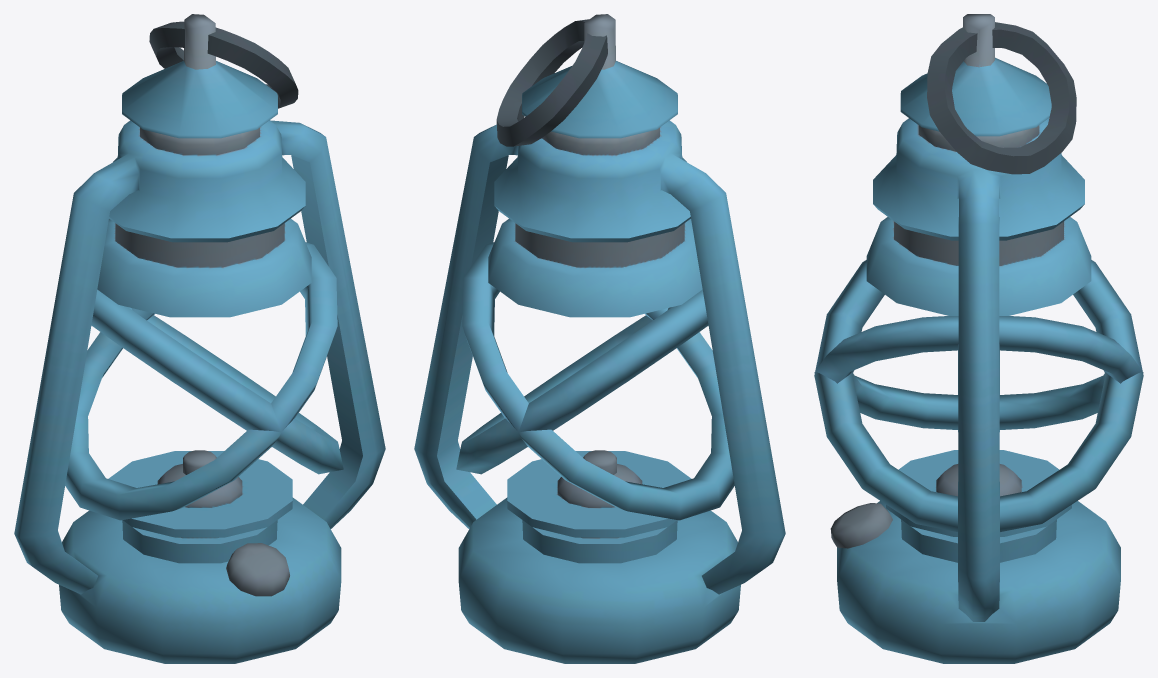
File: OilLanternGround.fbx
The picture shows the model from 3 angles, left to right: view 1: azimuth 30°, elevation 25°; view 2: azimuth 150°, elevation 25°; view 3: azimuth 270°, elevation 25°; orthographic projection.
Visible parts, largest first — view 1: SM_OilLantern_Ground; view 2: SM_OilLantern_Ground; view 3: SM_OilLantern_Ground.
Boxes of the visible parts, <box> form: SM_OilLantern_Ground: <box>14,14,385,663</box>; SM_OilLantern_Ground: <box>414,14,785,663</box>; SM_OilLantern_Ground: <box>814,14,1143,663</box>.
Bounding box in the file's own units: 48 × 74.47 × 37.3.
